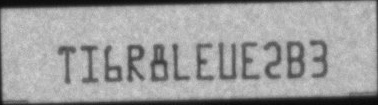2: (263, 39, 281, 82)
3: (310, 39, 330, 79)
6: (104, 45, 123, 82)
8: (149, 44, 169, 82)
B: (286, 39, 306, 78)
E: (239, 41, 259, 80), (196, 42, 214, 80)
I: (80, 44, 99, 84)
L: (172, 41, 190, 81)
R: (126, 43, 145, 82)
T: (57, 45, 78, 84)
U: (218, 42, 236, 80)
